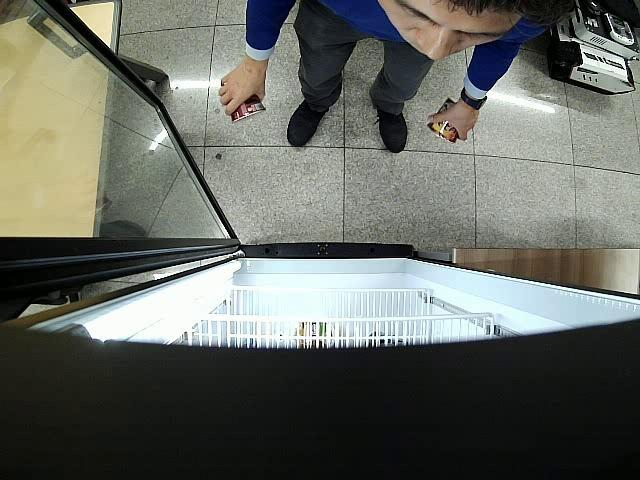06_nuguri_S: (426, 96, 459, 144), (231, 93, 266, 122)
